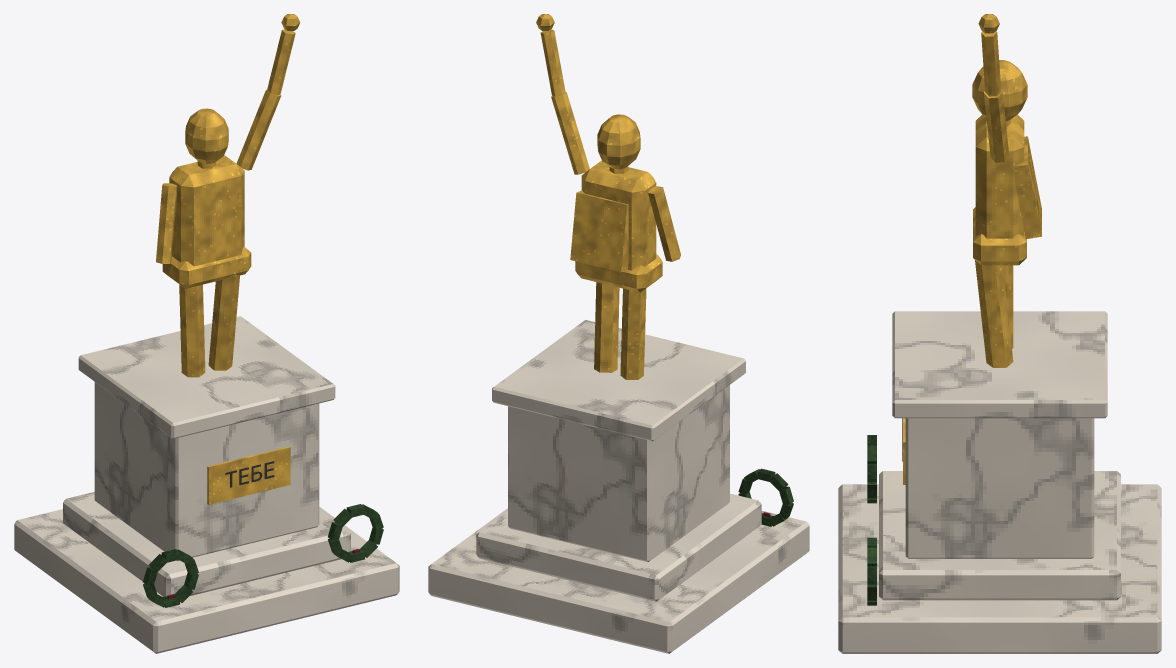
The model's file is statue_pedestal.glb.
The picture shows the model from 3 angles, left to right: view 1: azimuth 30°, elevation 25°; view 2: azimuth 150°, elevation 25°; view 3: azimuth 270°, elevation 25°; orthographic projection. The views are drawn at different scales.
Visible parts, largest first — view 1: statue_pedestal; view 2: statue_pedestal; view 3: statue_pedestal.
Part boxes in pixels (x1,y1,x2,y2): statue_pedestal: (14, 14, 399, 653); statue_pedestal: (428, 14, 809, 653); statue_pedestal: (838, 14, 1161, 653).
Size of what is drawn, in the model's own units: 2.4 by 5.06 by 2.4.
Materials: 5 (4 with a texture image).
